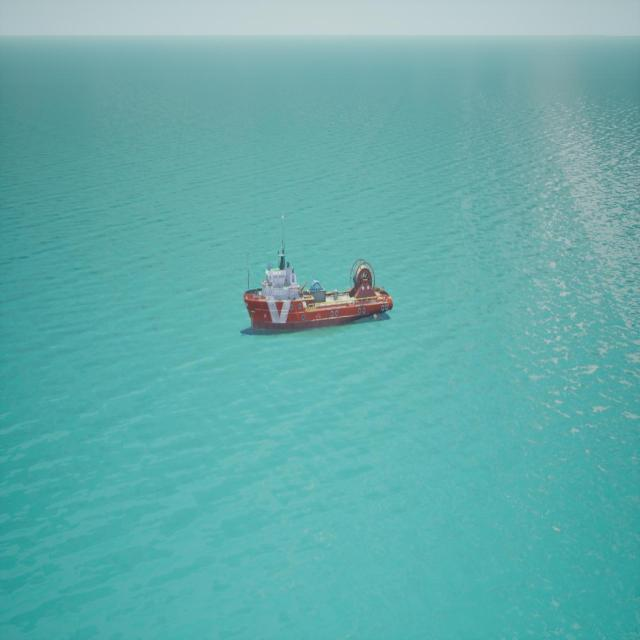tug boat: (241, 215, 393, 341)
